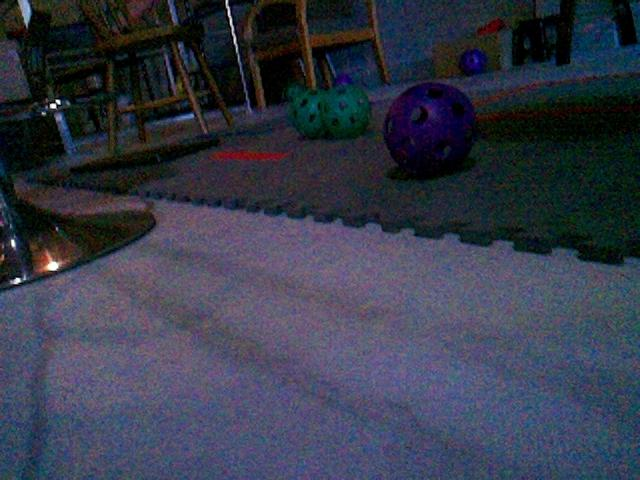Green: (320, 86, 371, 141), (287, 84, 330, 138), (283, 80, 306, 102)
Purple: (382, 82, 479, 177), (457, 48, 489, 77), (333, 72, 355, 87)
